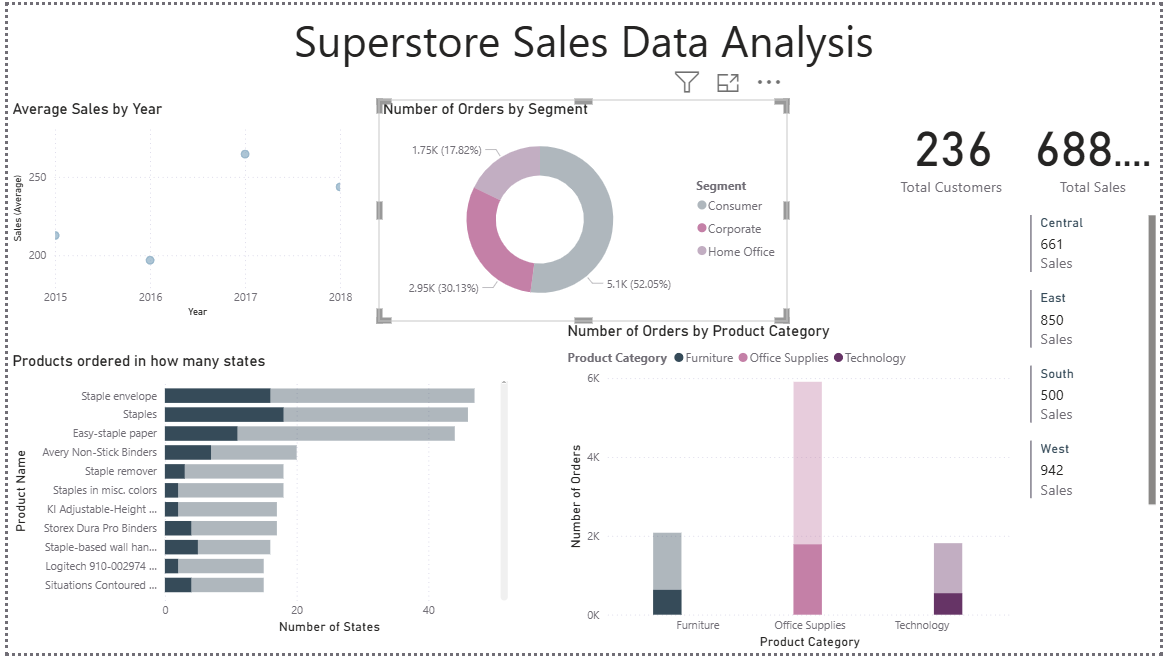

Layout of this report page (visuals, bound fields, positions):
{"tool":"powerbi","page":{"name":"Page 1","canvas":[1280,720],"ordinal":0},"visuals":[{"type":"scatterChart","title":"Average Sales by Year","fields":{"Y":["Avg(train.Sales)"],"X":["train.Order Year"]},"box":[0,105,386.7,246.7],"z":0},{"type":"card","fields":{"Values":["Count(train.Customer ID)"]},"box":[970,105,160,116.7],"z":1000},{"type":"clusteredBarChart","title":"Products ordered in how many states","fields":{"Category":["train.Product Name"],"Y":["CountNonNull(train.State)"]},"box":[0,385,560,318.3],"z":2000},{"type":"multiRowCard","fields":{"Values":["train.Region","CountNonNull(train.Sales (bins))"]},"box":[1130,228.3,150,343.3],"z":3000},{"type":"clusteredColumnChart","title":"Number of Orders by Product Category ","fields":{"Category":["train.Category","train.Sub-Category"],"Y":["CountNonNull(train.Order ID)"],"Series":["train.Category"]},"box":[616.7,351.7,503.3,368.3],"z":4000},{"type":"card","fields":{"Values":["Sum(train.Sales)"]},"box":[1130,105,150,116.7],"z":5000},{"type":"donutChart","fields":{"Series":["train.Segment"],"Y":["CountNonNull(train.Order ID)"]},"box":[411.7,105,455,246.7],"z":6000},{"type":"textbox","box":[0,0,1280,81.7],"z":7000}]}

Visuals, with their boxes in screenshot pixels (x1, y1, x2, y2), scaled from the page's 1280x720 canvas onto the 1170x660 screenshot:
"Average Sales by Year" scatterChart: x1=0, y1=96, x2=353, y2=322
card - Count(train.Customer ID): x1=887, y1=96, x2=1033, y2=203
"Products ordered in how many states" clusteredBarChart: x1=0, y1=353, x2=512, y2=645
multiRowCard - train.Region x CountNonNull(train.Sales (bins)): x1=1033, y1=209, x2=1169, y2=524
"Number of Orders by Product Category " clusteredColumnChart: x1=564, y1=322, x2=1024, y2=659
card - Sum(train.Sales): x1=1033, y1=96, x2=1169, y2=203
donutChart - train.Segment x CountNonNull(train.Order ID): x1=376, y1=96, x2=792, y2=322
textbox: x1=0, y1=0, x2=1169, y2=75
